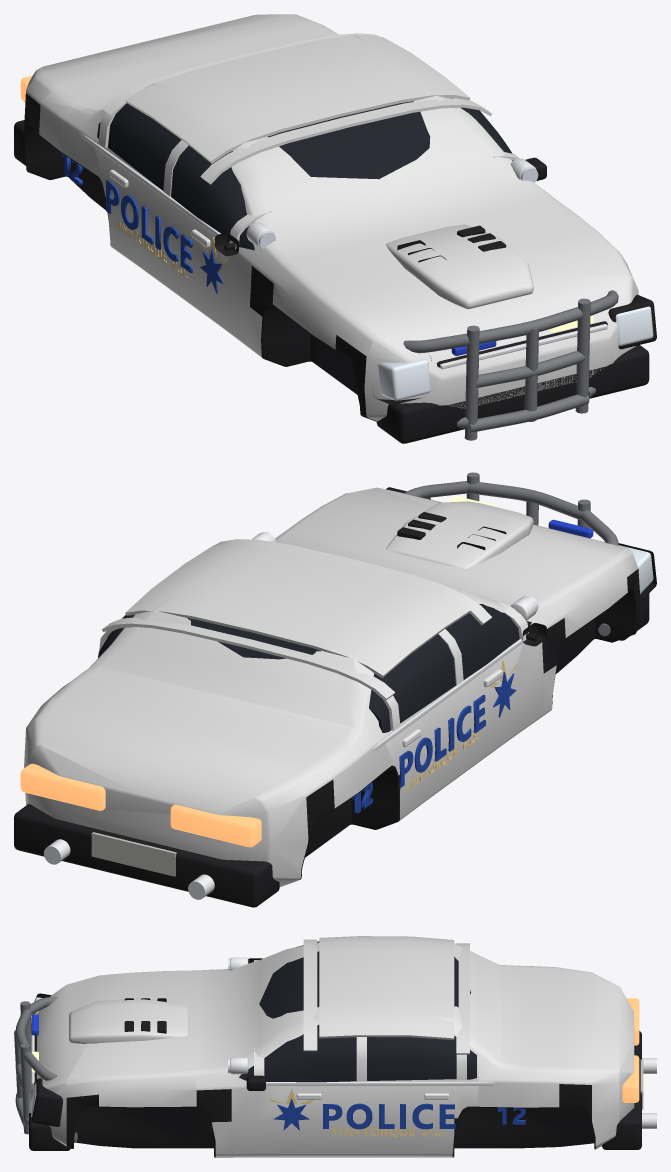
The model's file is body_patrol.fbx.
The picture shows the model from 3 angles, top to bottom: view 1: azimuth 30°, elevation 25°; view 2: azimuth 150°, elevation 25°; view 3: azimuth 270°, elevation 25°; orthographic projection. The views are drawn at different scales.
Parts seen in each view (by area): view 1: patrolpaint_1, glass_1, gunmetal_1, dark_8, dark_7, em_head_1, decal_1, dark_5, chrome_4, chrome_2, dark_4, dark_3; view 2: patrolpaint_1, glass_1, dark_2, dark_8, em_tail_1, gunmetal_1, white_1, decal_1, chrome_3, chrome_4, dark_4; view 3: patrolpaint_1, dark_8, glass_1, gunmetal_1, decal_2, dark_2, dark_5, chrome_4, em_tail_1, dark_7, gold_2, decal_6 (+4 smaller).
Boxes of the visible parts, x1,y1,x2,y2 form: patrolpaint_1: (26, 14, 638, 421); glass_1: (97, 98, 513, 250); gunmetal_1: (403, 290, 618, 440); dark_8: (24, 93, 376, 421); dark_7: (376, 345, 649, 443); em_head_1: (378, 306, 653, 400); decal_1: (106, 180, 192, 272); dark_5: (372, 294, 656, 404); chrome_4: (78, 132, 239, 251); chrome_2: (440, 324, 607, 369); dark_4: (397, 225, 506, 262); dark_3: (214, 157, 546, 256); patrolpaint_1: (24, 487, 638, 886); glass_1: (98, 604, 531, 732); dark_2: (14, 804, 279, 907); dark_8: (300, 569, 640, 879); em_tail_1: (20, 763, 261, 847); gunmetal_1: (403, 472, 618, 636); white_1: (91, 832, 176, 876); decal_1: (399, 695, 485, 787); chrome_3: (43, 839, 214, 899); chrome_4: (371, 639, 523, 751); dark_4: (397, 512, 506, 549); patrolpaint_1: (29, 936, 634, 1157); dark_8: (66, 1084, 595, 1157); glass_1: (239, 941, 476, 1082); gunmetal_1: (14, 997, 77, 1141); decal_2: (323, 1103, 455, 1129); dark_2: (602, 1031, 641, 1149); dark_5: (31, 993, 62, 1126); chrome_4: (266, 1082, 499, 1085); em_tail_1: (622, 998, 639, 1102); dark_7: (29, 1113, 70, 1150); gold_2: (331, 1128, 446, 1137); decal_6: (273, 1098, 309, 1130).
Bounding box in the file's own units: 0.1904 × 0.0999 × 0.42.
